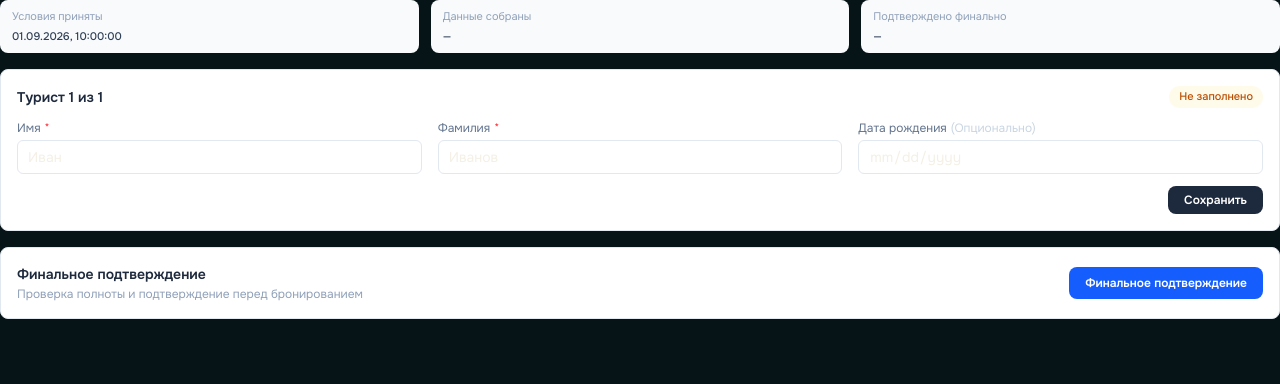
it: TravelerCollectionPanel (D3) › save: PATCH per traveler с изменёнными полями; затем refetch (refresh → resume)
Check: the field showing "Иван" is shown, box [17,140,422,174]
Replace the text in the field labelled "Фамилия *" with "Иванов-Новый" at coordinates (640, 157), box [438,140,842,174]
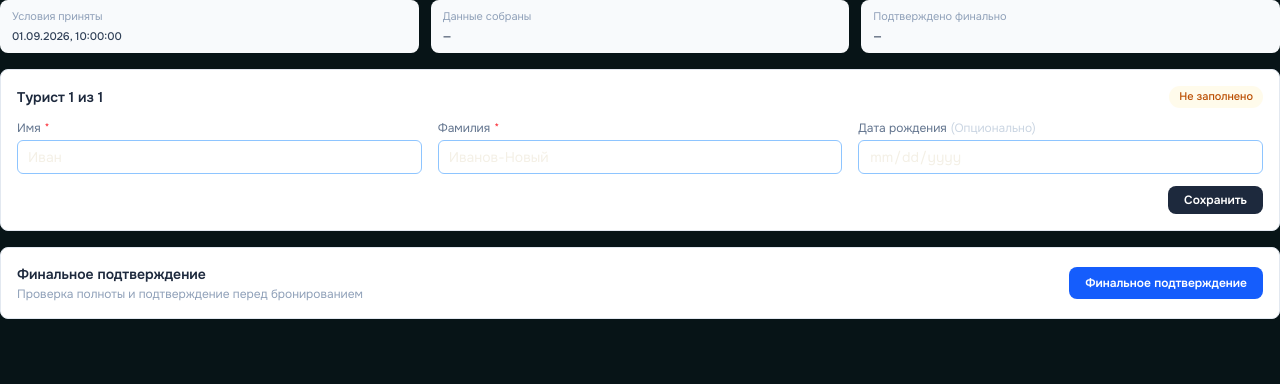
Click the button "Сохранить" at coordinates (1216, 200), box [1168,186,1263,214]
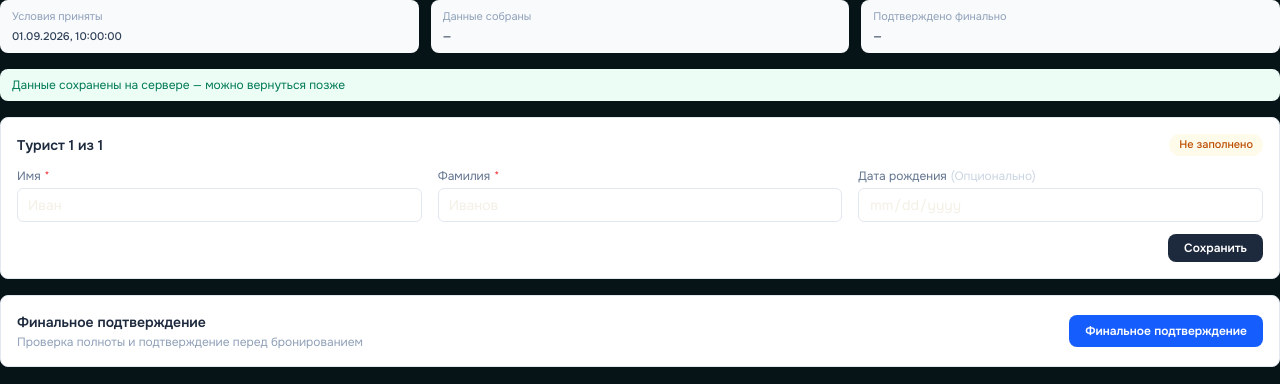
Check: the text "Данные сохранены на сервере — можно вернуться позже" is shown, box [0,69,1279,101]
